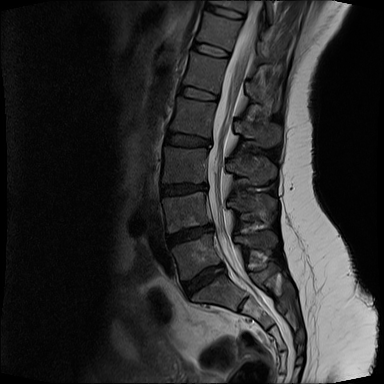Lumbar Disc Bulge (LDB): (178, 256, 230, 302), (163, 218, 218, 251), (155, 177, 211, 199), (162, 130, 216, 151)
Normal IVD: (173, 84, 221, 106), (190, 40, 233, 62), (202, 4, 247, 23)
Spinal Stenosis (SS): (204, 215, 221, 238), (201, 131, 216, 153), (214, 256, 227, 281), (198, 178, 212, 195)
